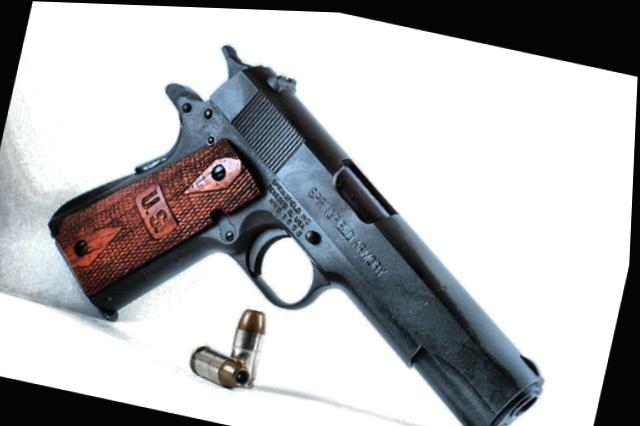pistol: (17, 6, 606, 426)
